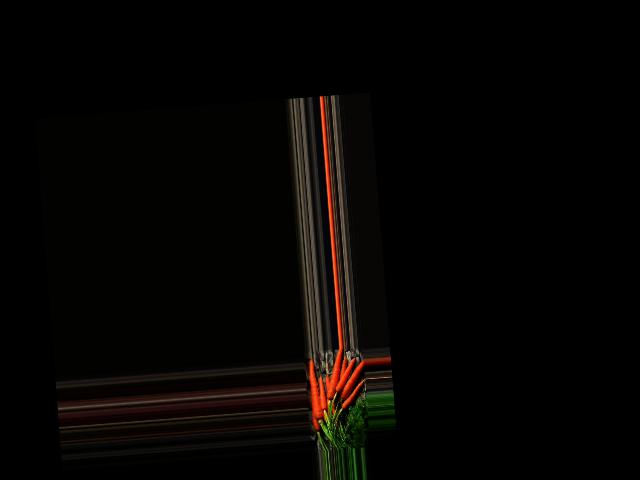carrot: (340, 382, 365, 411)
